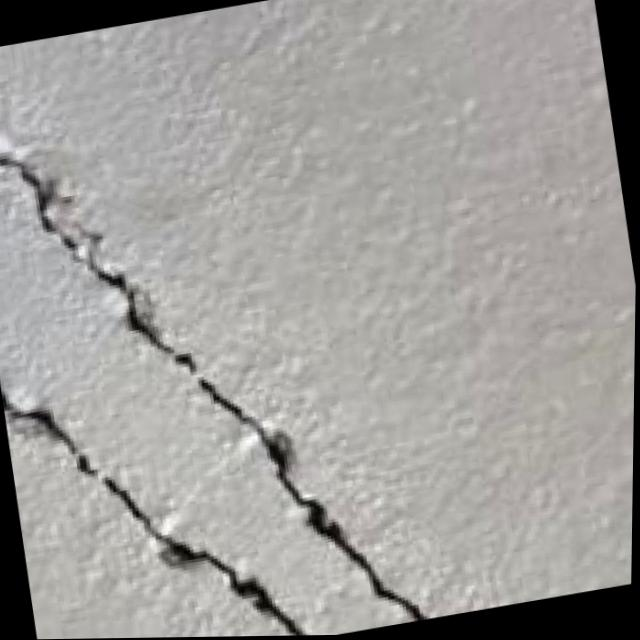Crack: (0, 6, 437, 640)
